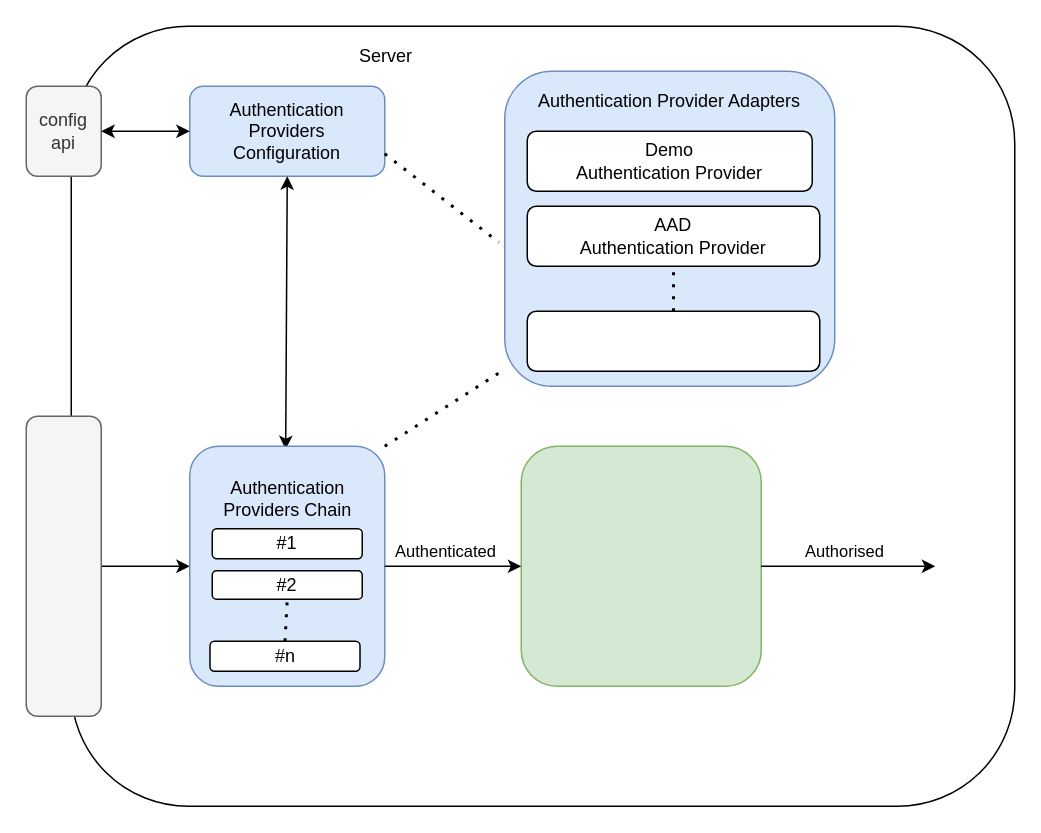
The diagram is 1041 pixels wide and 833 high, and some of its shapes have lost their labels. The shapes that lost their labels are listed below. From the top down, each one's centre as x and y in pixels, then its label:
At (673,340): "Next Authentication Provider".
At (63,565): "domain api".
At (640,565): "Authorisation Engine".
